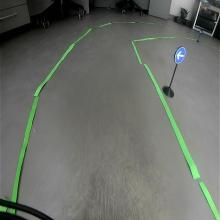left: (174, 46, 186, 64)
